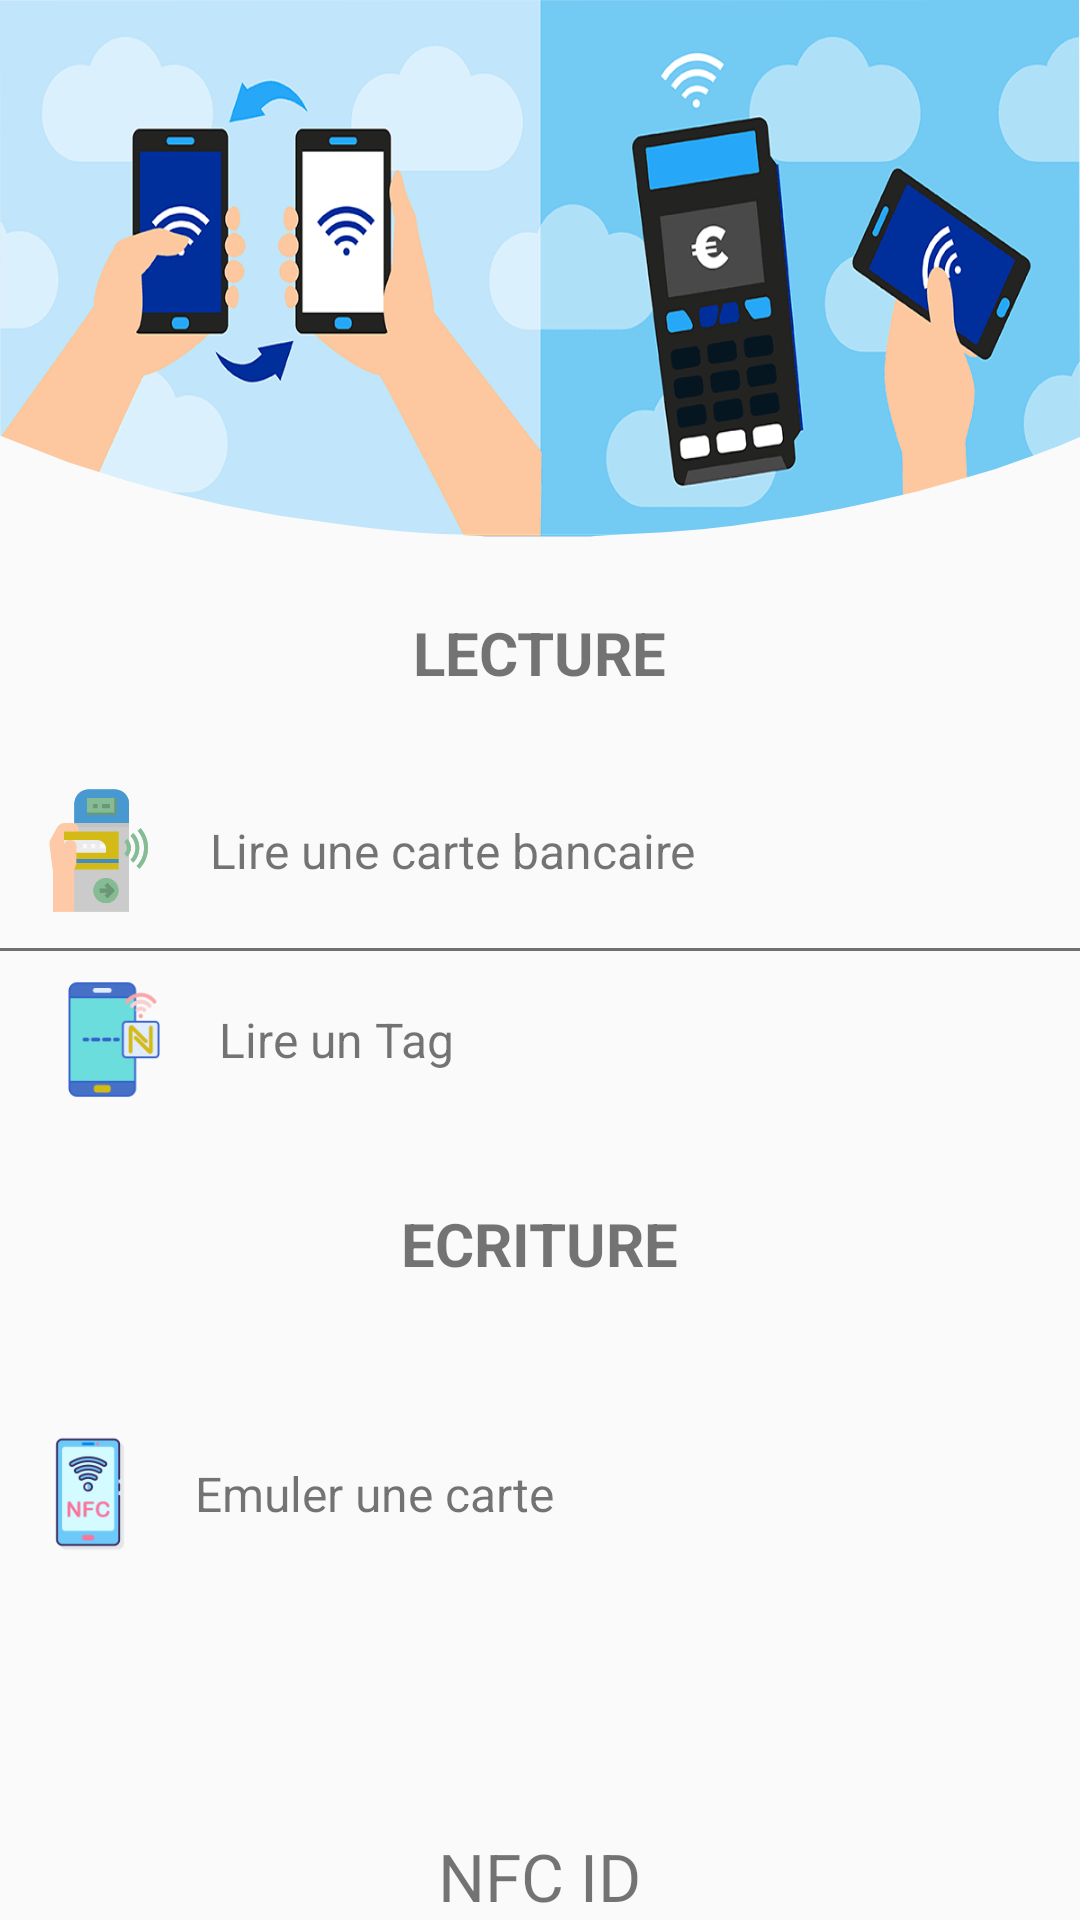

Icon bounding boxes for this 1080px x 1920px phone screenshot, format (x1, y1, x2, y2):
nfc write: (56, 1438, 121, 1547)
